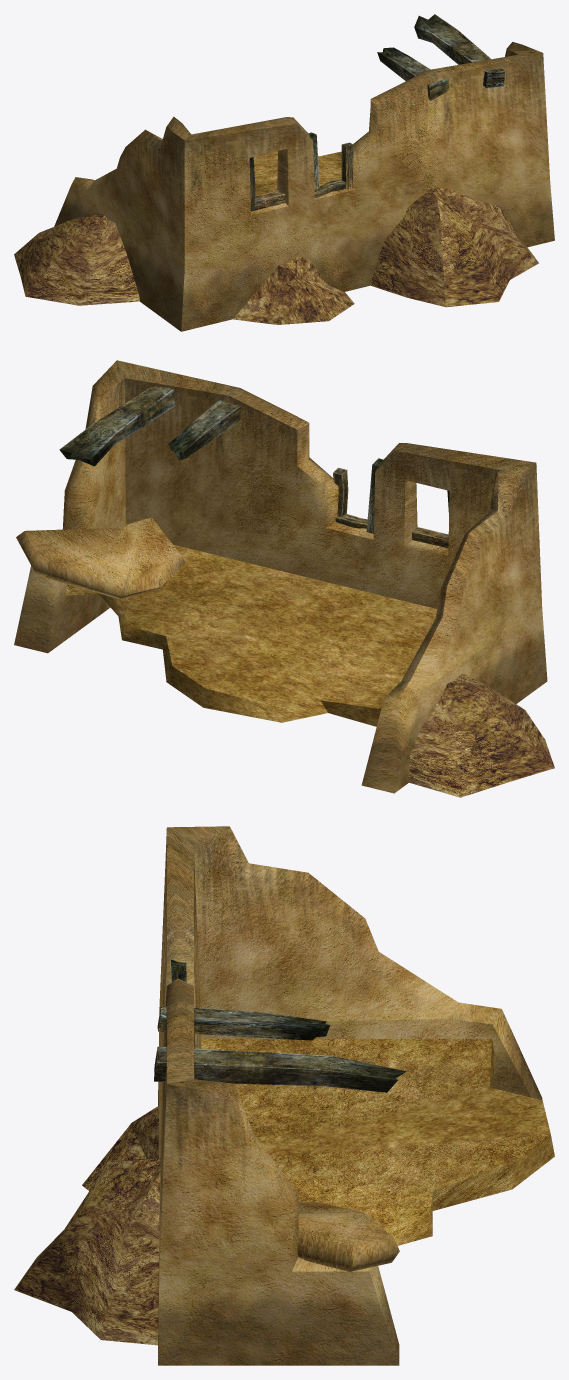
The picture shows the model from 3 angles, top to bottom: view 1: azimuth 30°, elevation 25°; view 2: azimuth 150°, elevation 25°; view 3: azimuth 270°, elevation 25°; orthographic projection. The views are drawn at different scales.
Visible parts, largest first — view 1: hr_rn4-col; view 2: hr_rn4-col; view 3: hr_rn4-col.
Boxes of the visible parts, bbox=[...] form: hr_rn4-col: bbox=[14, 14, 554, 331]; hr_rn4-col: bbox=[14, 360, 554, 797]; hr_rn4-col: bbox=[14, 826, 554, 1365].
Bounding box in the file's own units: 11.77 × 4.64 × 8.01.
Materials: 8 (8 with a texture image).
